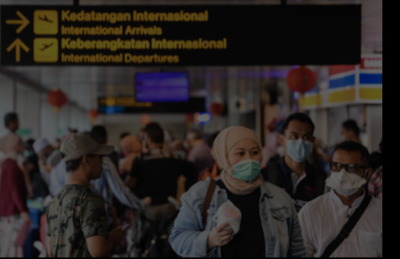with_mask: (224, 144, 264, 182), (328, 157, 365, 194), (283, 130, 314, 162)
without_mask: (91, 154, 106, 178)
